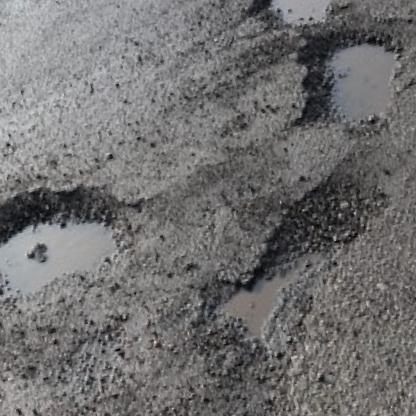pothole: (189, 169, 410, 355), (0, 164, 154, 312), (275, 12, 416, 148), (256, 0, 346, 37)
